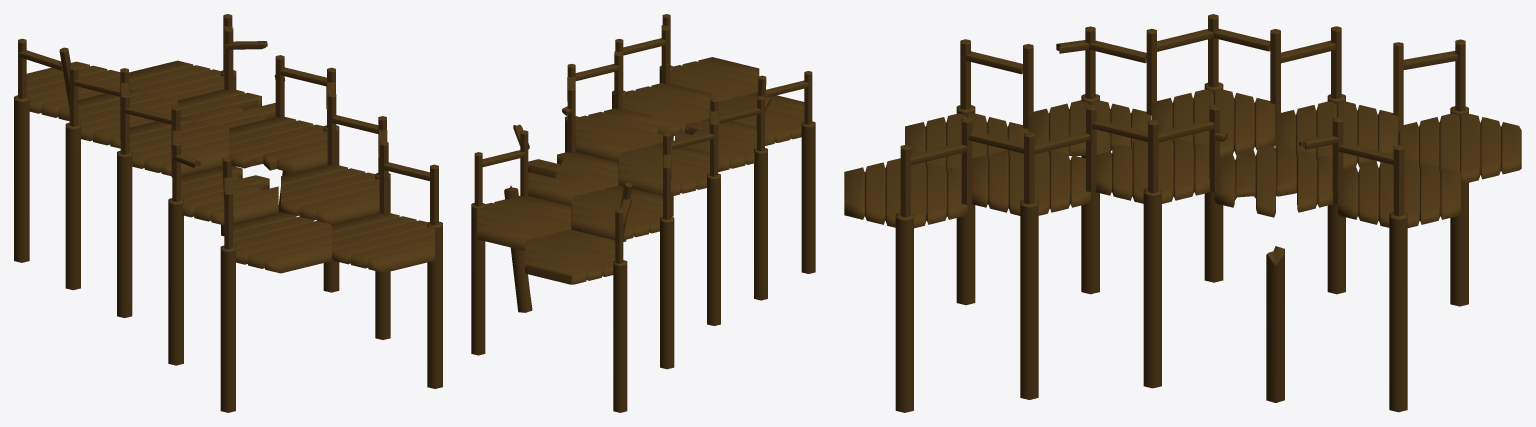
The model's file is Bridge.fbx.
The picture shows the model from 3 angles, left to right: view 1: azimuth 30°, elevation 25°; view 2: azimuth 150°, elevation 25°; view 3: azimuth 270°, elevation 25°; orthographic projection. The views are drawn at different scales.
Parts seen in each view (by area): view 1: mBridgeFuckedUp; view 2: mBridgeFuckedUp; view 3: mBridgeFuckedUp.
Part boxes in pixels (x1,y1,x2,y2): mBridgeFuckedUp: (14, 14, 442, 412); mBridgeFuckedUp: (471, 14, 815, 412); mBridgeFuckedUp: (844, 14, 1521, 412).
Size of the model in its own units: 407 by 445 by 952.
